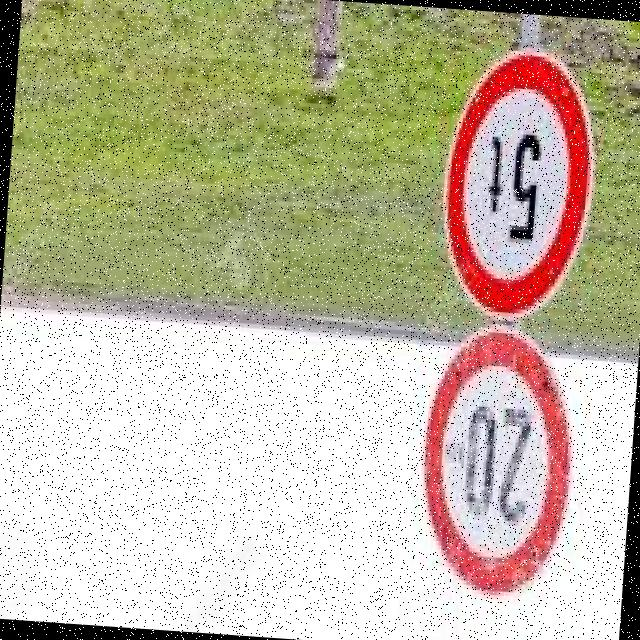speed_limit_20: (408, 316, 586, 611)
